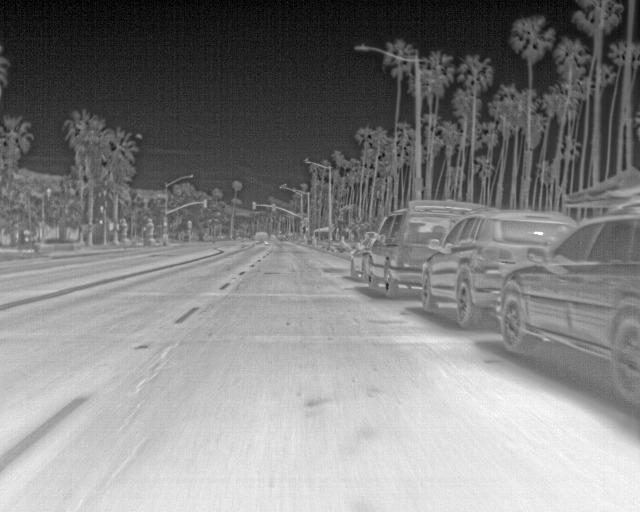car: (500, 215, 639, 401), (422, 209, 577, 329), (365, 201, 489, 298), (350, 232, 378, 281), (255, 232, 269, 245), (278, 235, 288, 241), (270, 234, 276, 240)
light: (272, 204, 276, 211), (252, 202, 256, 209), (164, 217, 167, 226), (301, 221, 304, 227), (204, 200, 206, 207)
sign: (188, 221, 191, 228)
